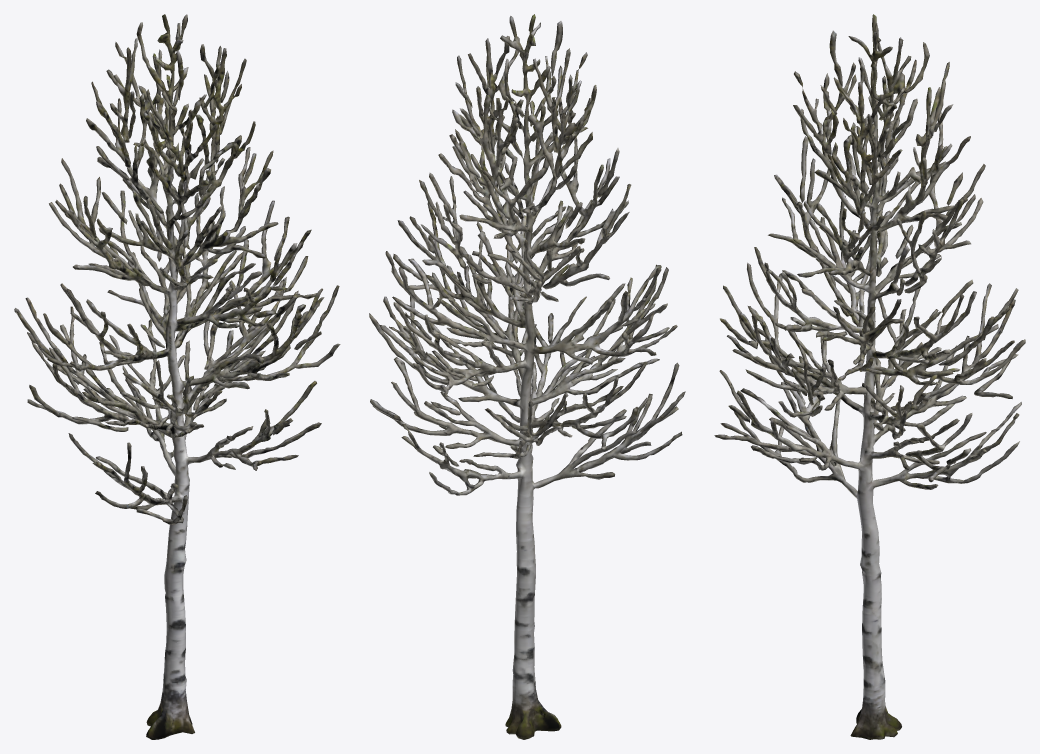
Rendered from AI_WhiteBirch04.fbx.
The picture shows the model from 3 angles, left to right: view 1: azimuth 30°, elevation 25°; view 2: azimuth 150°, elevation 25°; view 3: azimuth 270°, elevation 25°; orthographic projection.
Parts seen in each view (by area): view 1: Mesh1.0; view 2: Mesh1.0; view 3: Mesh1.0.
Boxes of the visible parts, box(x1,y1,x2,y2) form: Mesh1.0: box(14, 14, 340, 739); Mesh1.0: box(369, 14, 685, 739); Mesh1.0: box(714, 14, 1025, 739).
Size of the model in its own units: 79.57 by 199 by 78.75.
1 material, 1 textured.
